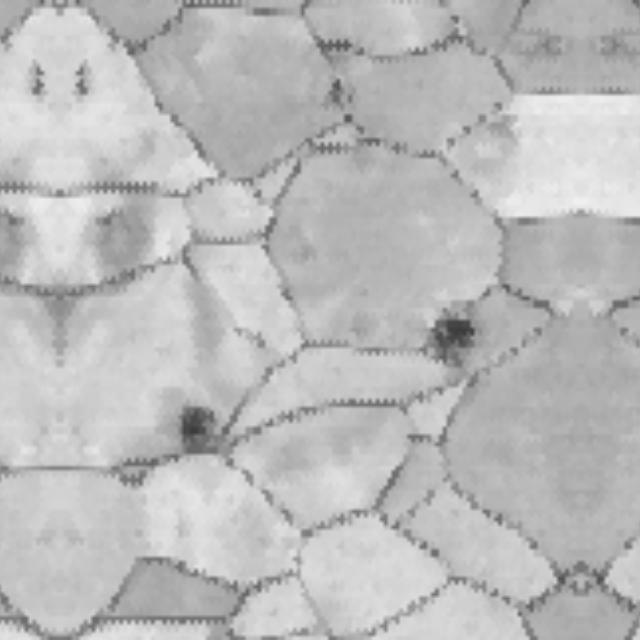good_void: (88, 198, 158, 273), (415, 312, 494, 369), (166, 402, 233, 464), (0, 201, 30, 273), (325, 71, 348, 116), (71, 58, 93, 99), (25, 58, 47, 99)
